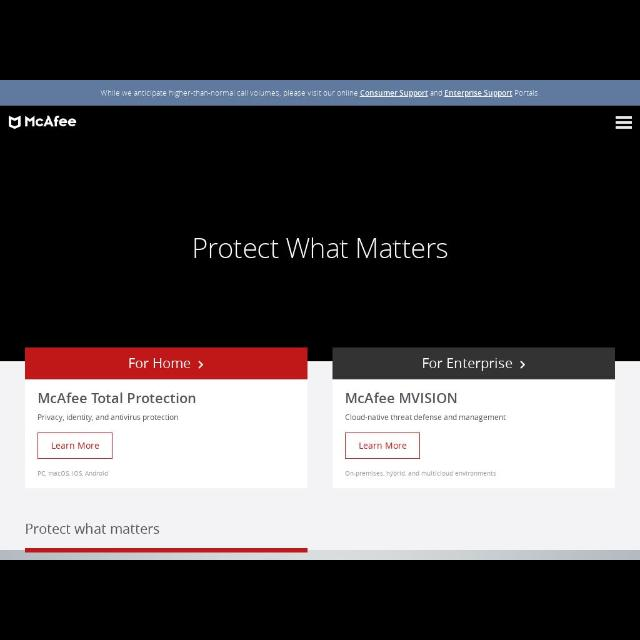icon: (616, 116, 632, 130), (198, 360, 204, 370), (520, 360, 526, 370)
image: (8, 115, 76, 129)
panel: (25, 347, 308, 489), (333, 348, 615, 488)
text: (194, 237, 448, 259), (100, 90, 540, 98), (38, 392, 195, 403), (346, 413, 507, 422), (27, 524, 160, 534), (423, 358, 513, 372), (38, 413, 178, 422), (346, 392, 456, 403), (346, 471, 496, 477), (130, 358, 190, 368), (51, 442, 99, 450), (359, 442, 407, 450), (38, 472, 108, 476)
textbutton: (344, 432, 420, 460), (37, 433, 113, 459)
